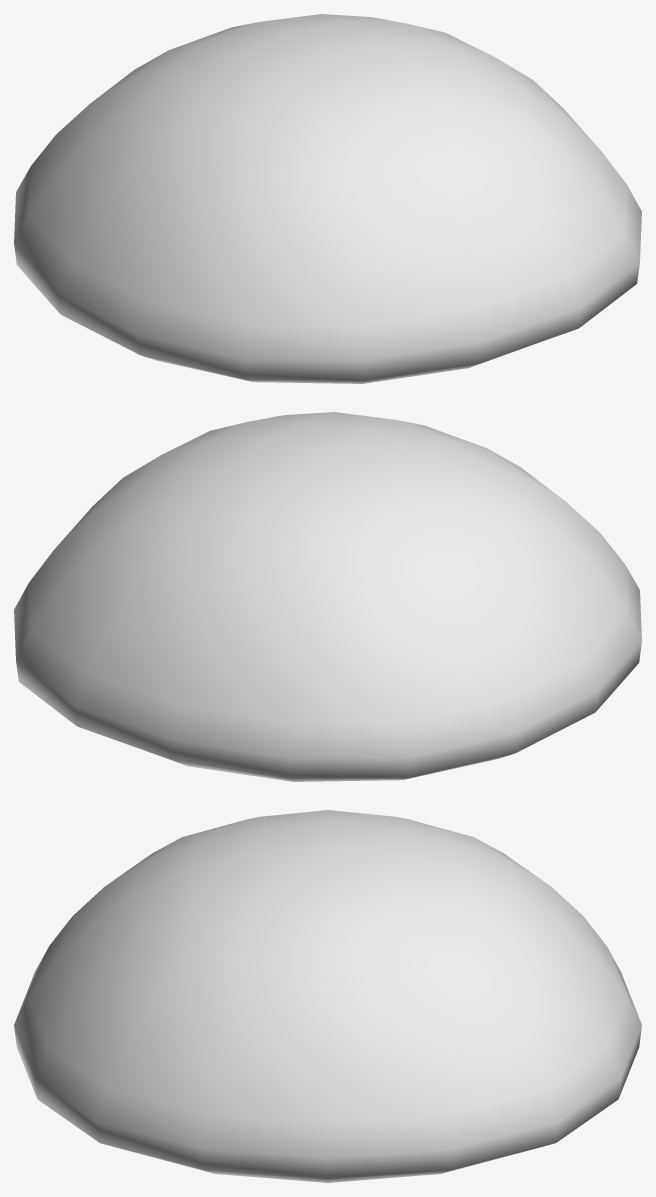
Rendered from quaternius-sushi-restaurant-foodingredient-rice.glb.
3 renders of one model, top to bottom at view 1: azimuth 30°, elevation 25°; view 2: azimuth 150°, elevation 25°; view 3: azimuth 270°, elevation 25°, orthographic.
Visible parts, largest first — view 1: FoodIngredient_Rice; view 2: FoodIngredient_Rice; view 3: FoodIngredient_Rice.
Boxes of the visible parts, box(x1,y1,x2,y2) form: FoodIngredient_Rice: box(14, 14, 641, 383); FoodIngredient_Rice: box(14, 412, 641, 781); FoodIngredient_Rice: box(14, 810, 641, 1182).
Size of the model in its own units: 1.08 by 0.4459 by 1.08.
1 material, 1 textured.
